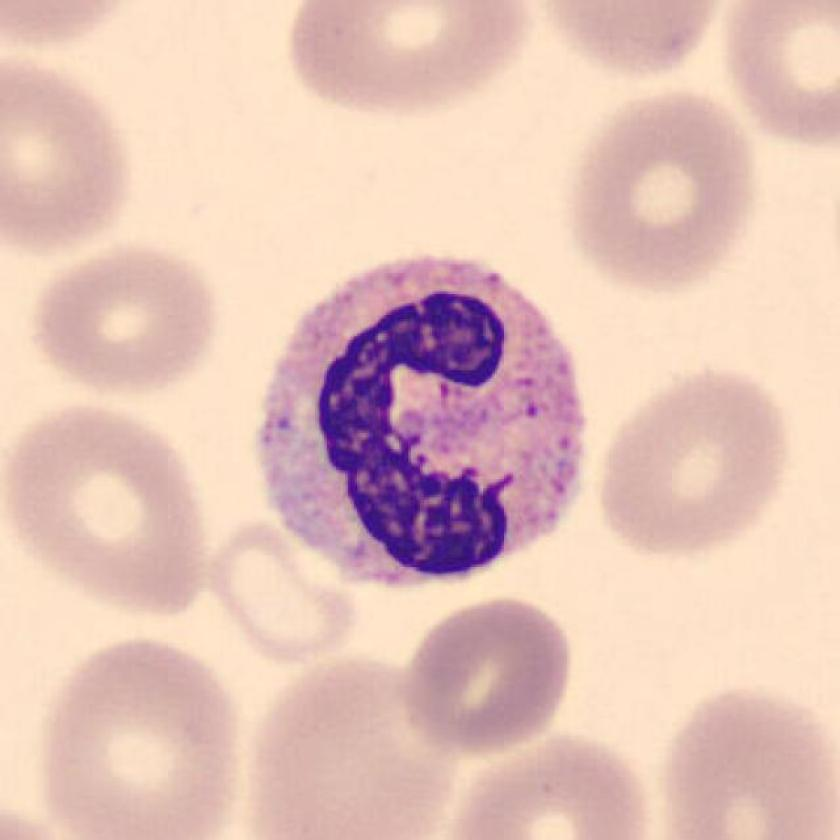neutrophil: (261, 256, 588, 584)
